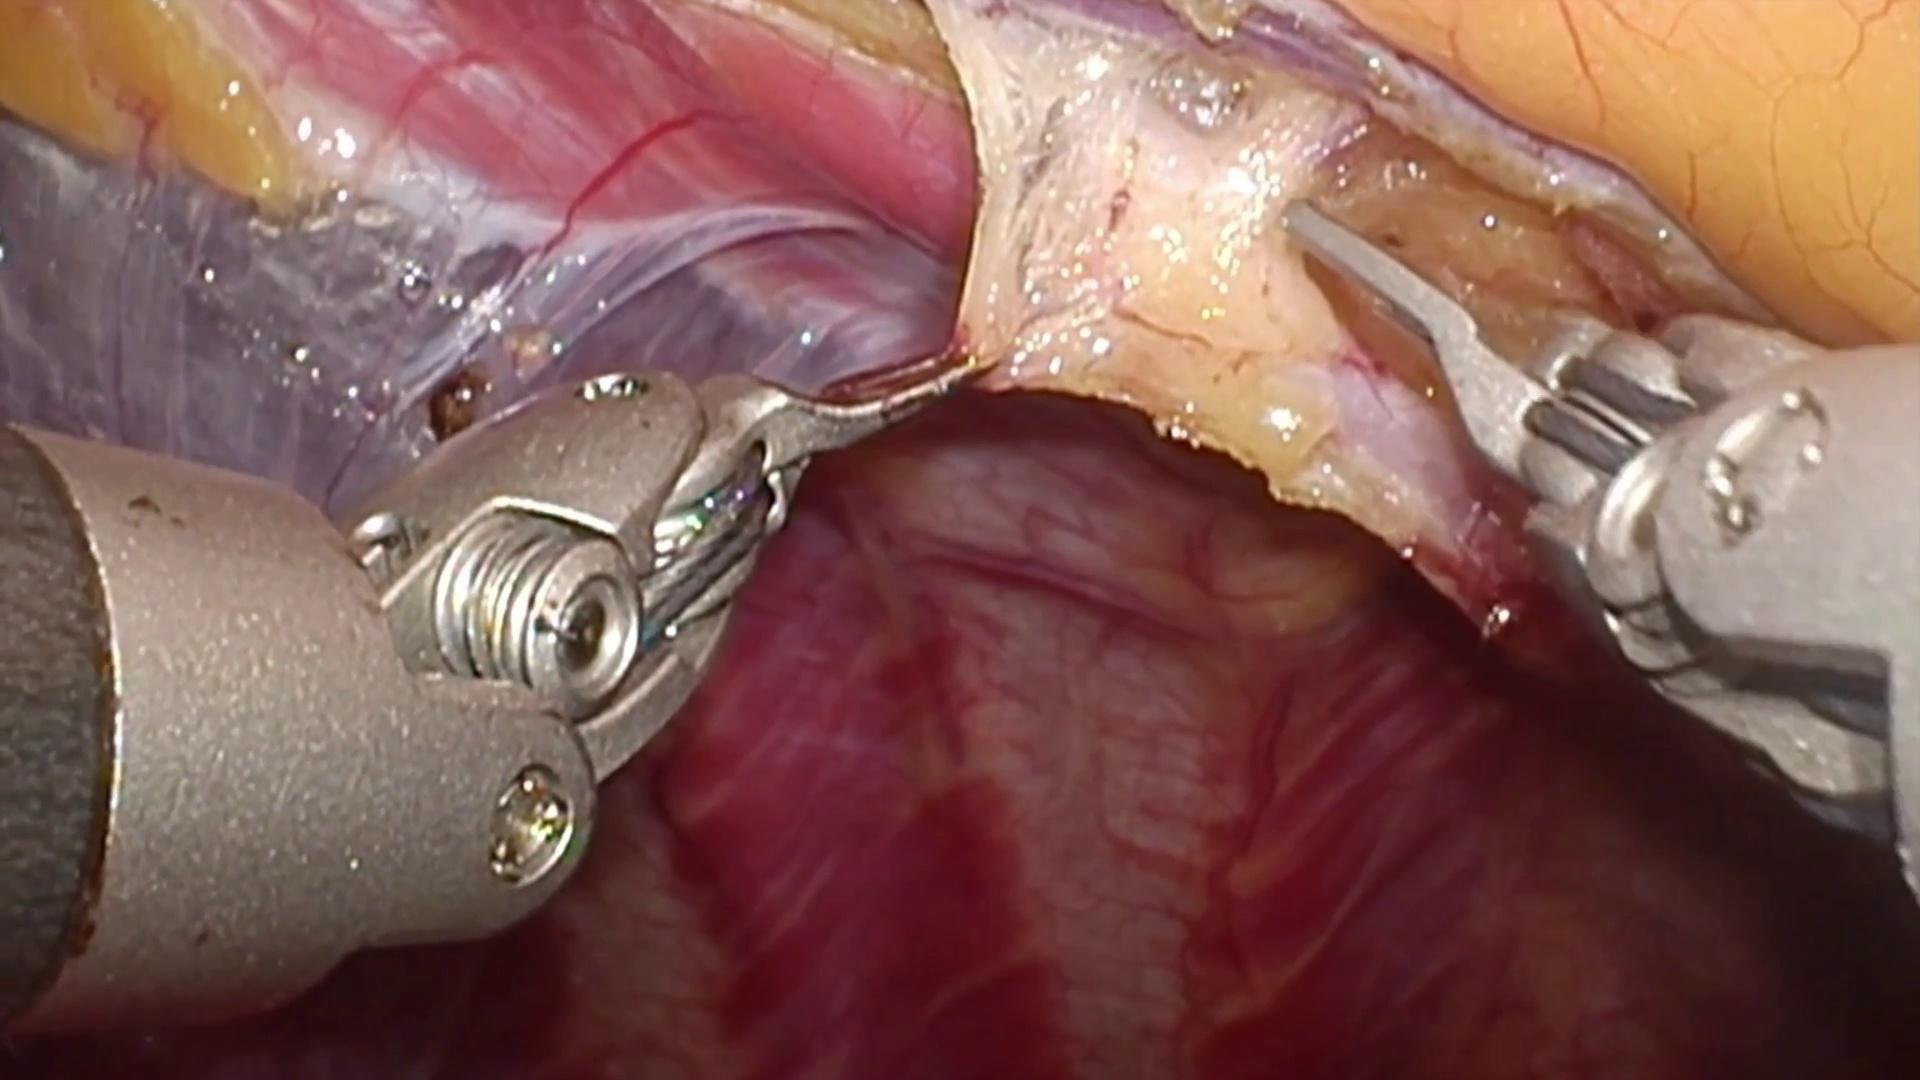Debakey: (704, 344, 1005, 512)
clipper: (1276, 190, 1683, 654)
